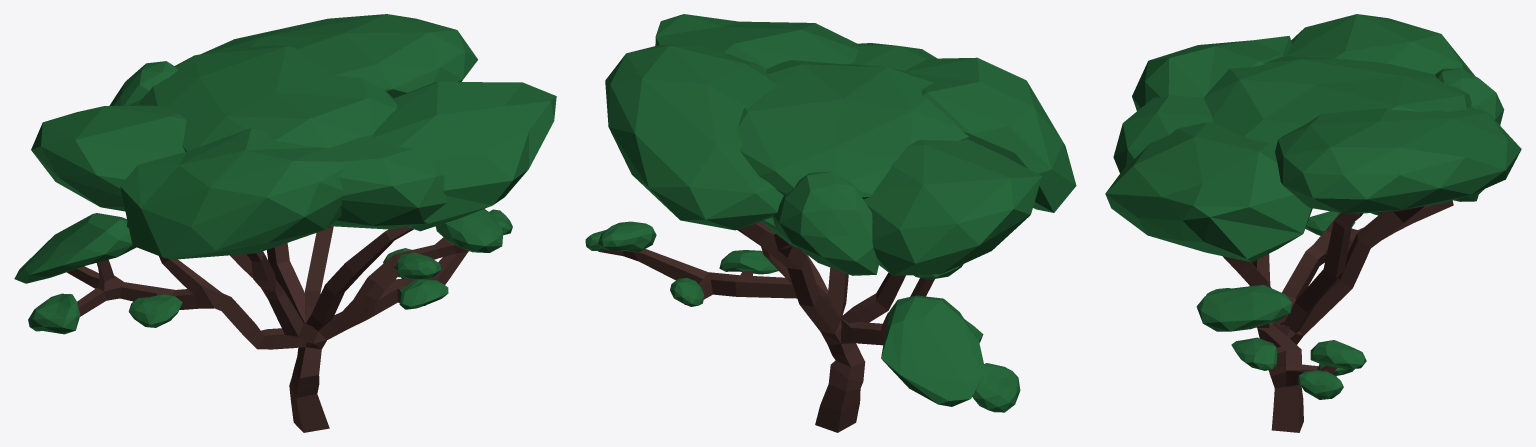
File: cevizağacı2renklidallıproperlymeshed.fbx
3 views of the same model, side by side, from view 1: azimuth 30°, elevation 25°; view 2: azimuth 150°, elevation 25°; view 3: azimuth 270°, elevation 25° (orthographic). The views are drawn at different scales.
Visible parts, largest first — view 1: Vert.001; view 2: Vert.001; view 3: Vert.001.
Part boxes in pixels (x1,y1,x2,y2): Vert.001: (14, 14, 556, 432); Vert.001: (585, 14, 1076, 432); Vert.001: (1105, 14, 1521, 432).
Bounding box in the file's own units: 324 × 241 × 262.
